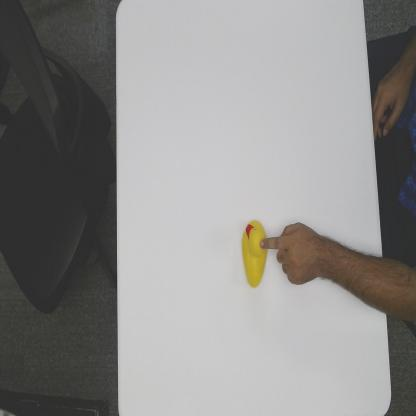Arm: (319, 230, 385, 313)
Duck: (241, 218, 268, 288)
Hand: (258, 222, 318, 286)
